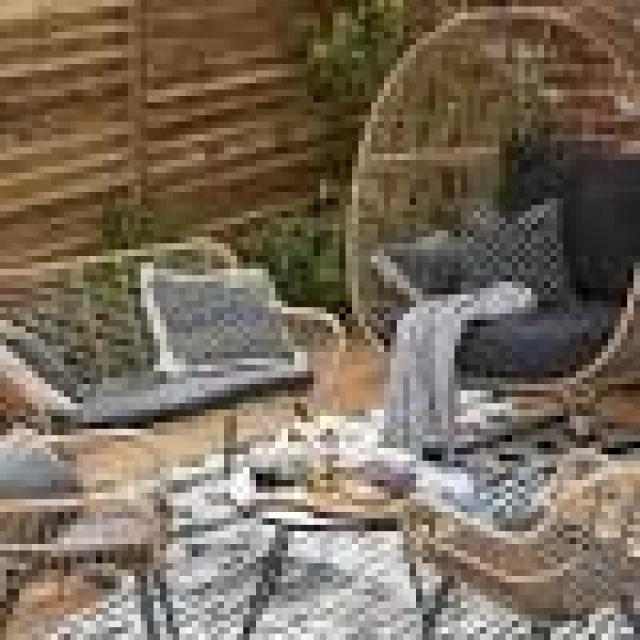chair: (291, 0, 640, 412), (0, 209, 343, 466), (389, 419, 640, 640), (0, 403, 202, 640)
